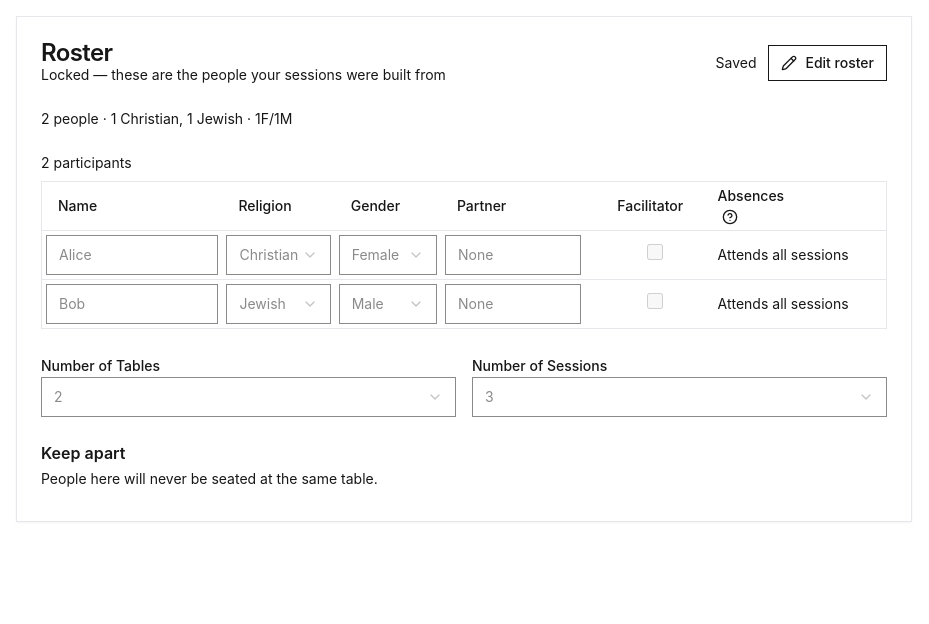
Test: the lock › arms the fields when Edit roster is pressed
What coordinates should you click on to do the following:
click the button "Edit roster"
I would click on:
 (828, 63)
Its box is [768, 45, 887, 81].
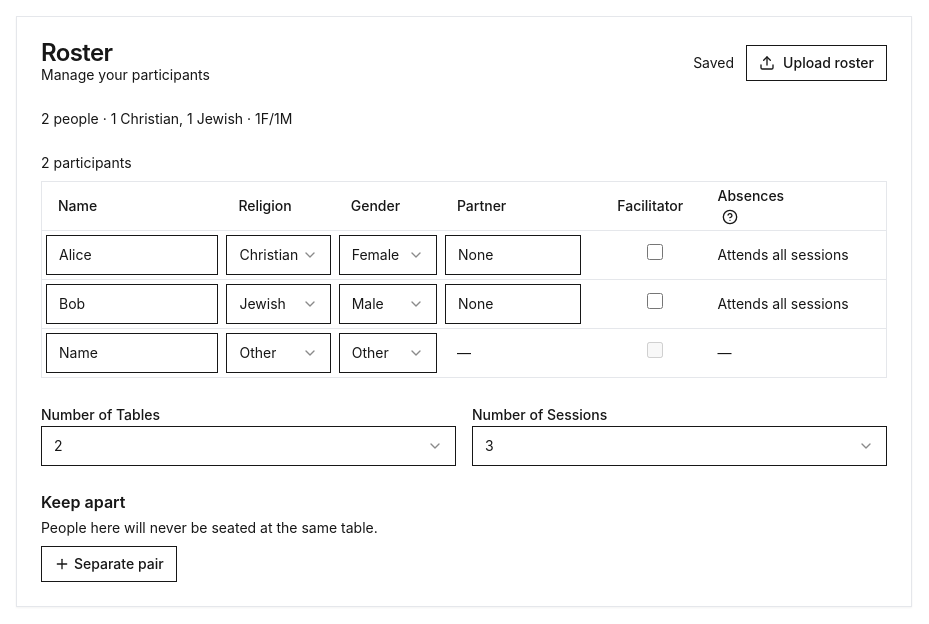
Now the button "Edit roster" is gone
Now the 1st field showing "Alice" is enabled, box [46, 234, 218, 274]
